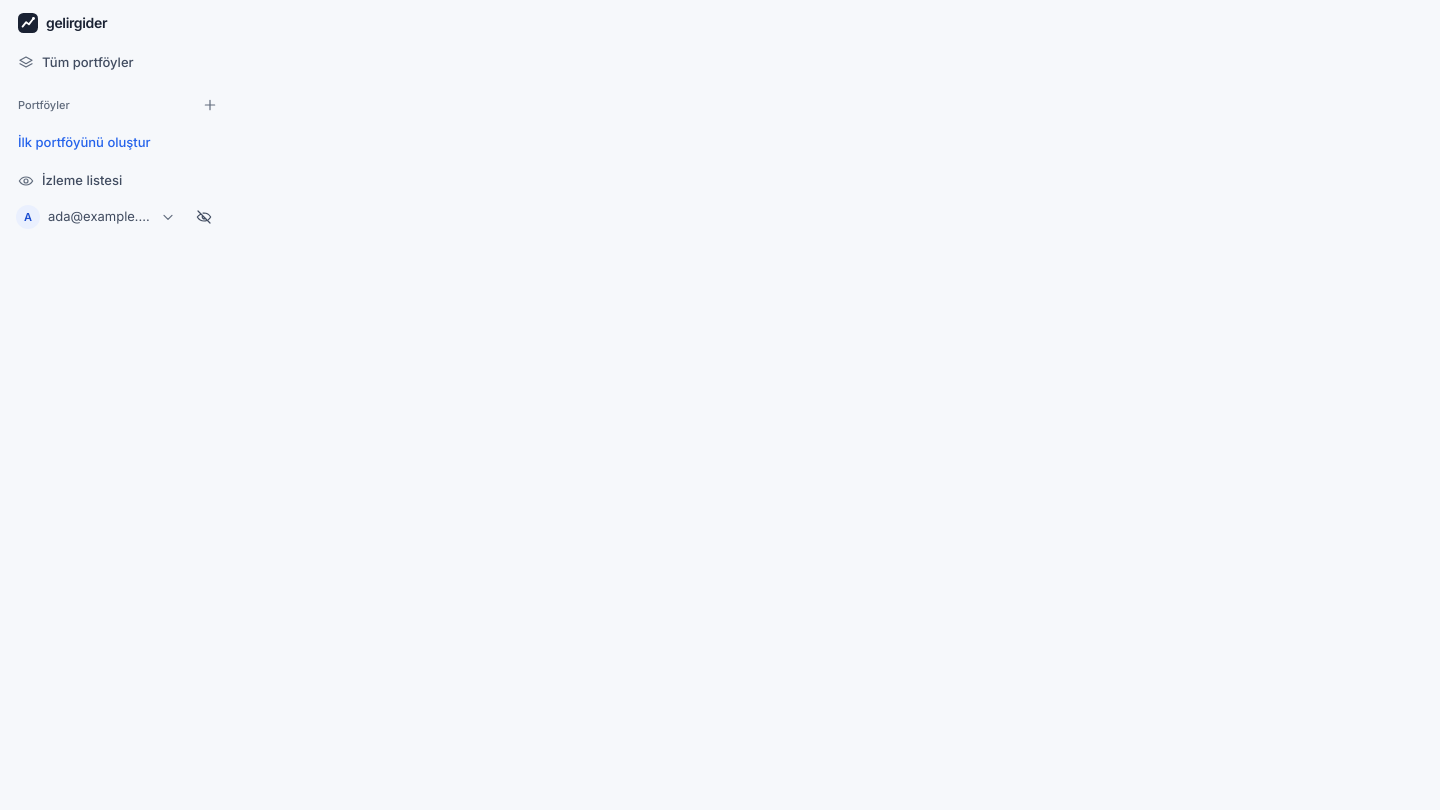
Test case: Sidebar › offers to create the first portfolio
The image size is (1440, 810).
Click the button "İlk portföyünü oluştur".
click(84, 143)  # box [18,133,151,152]
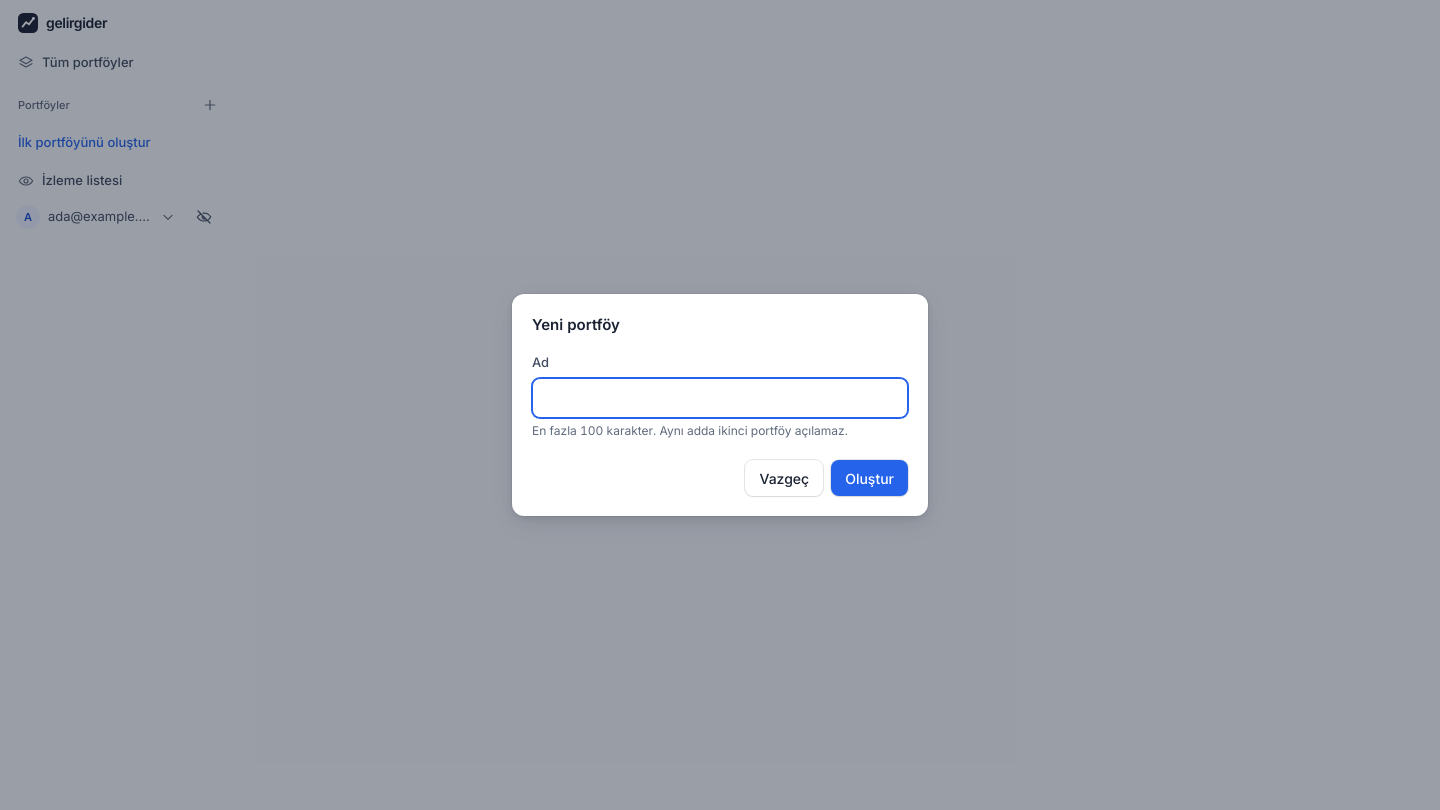
Expected: the dialog "Yeni portföy" is shown, [512,294,928,516]
